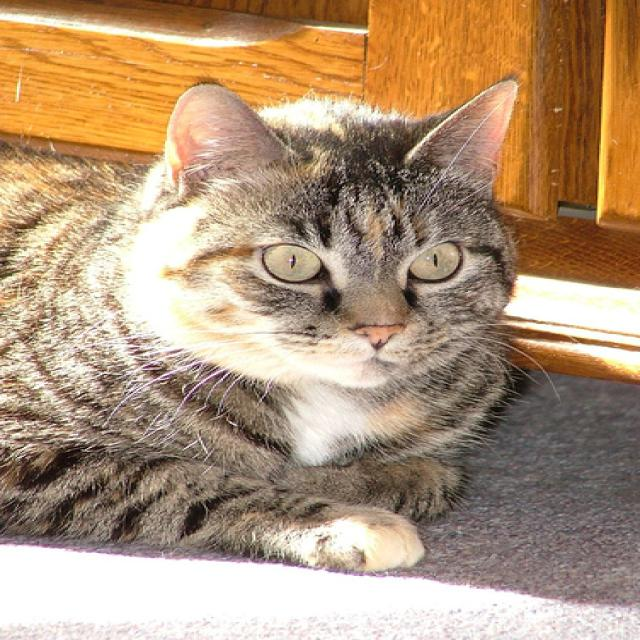cat: (1, 76, 556, 575)
